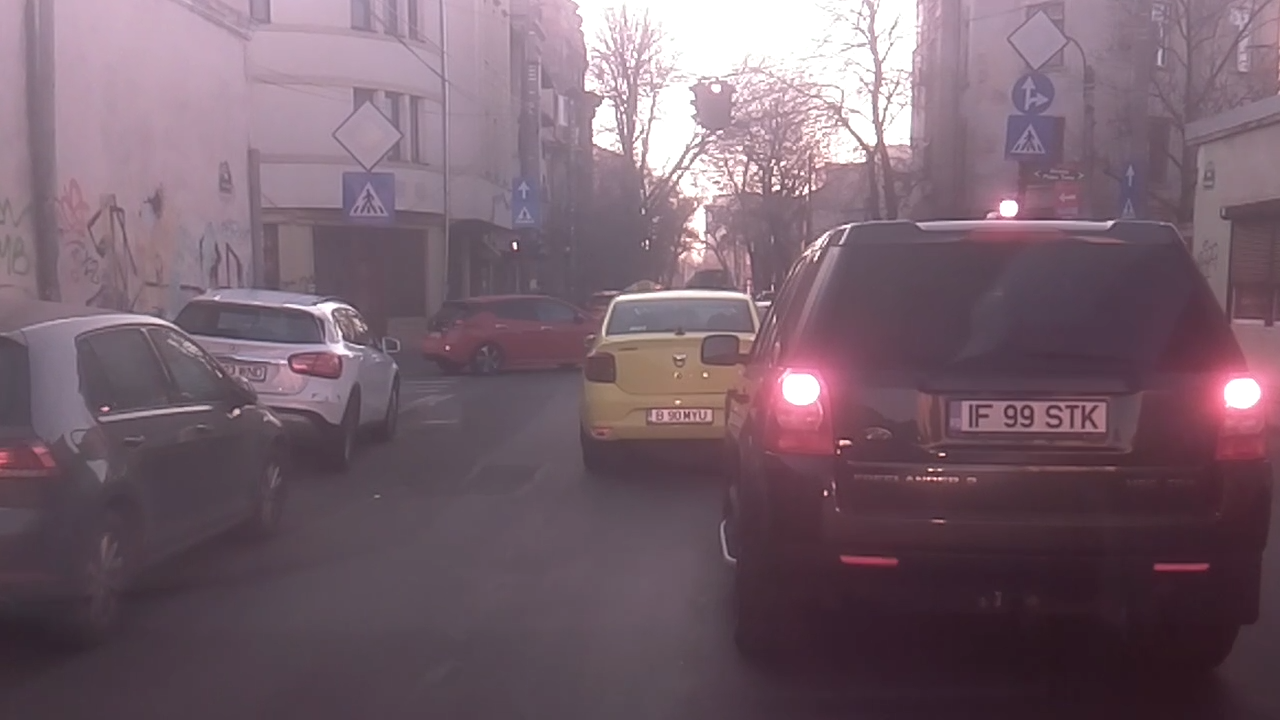license-plate: (940, 392, 1116, 442), (643, 404, 718, 426)
